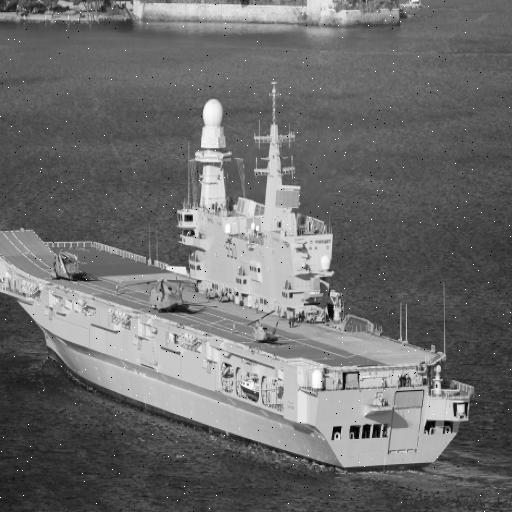Portanaves: (1, 76, 477, 477)
